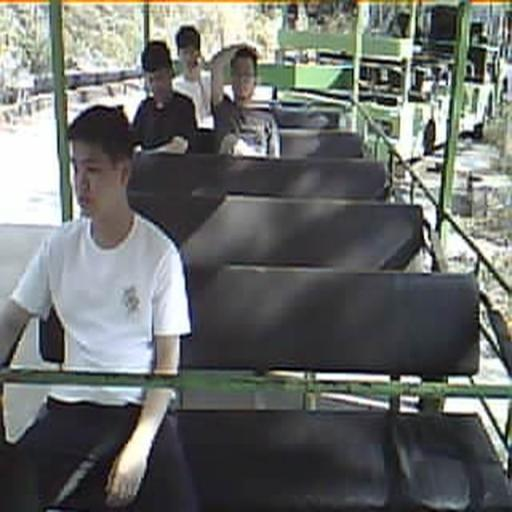persona: (0, 102, 194, 511), (130, 40, 200, 154), (171, 25, 245, 132), (212, 46, 281, 158)
